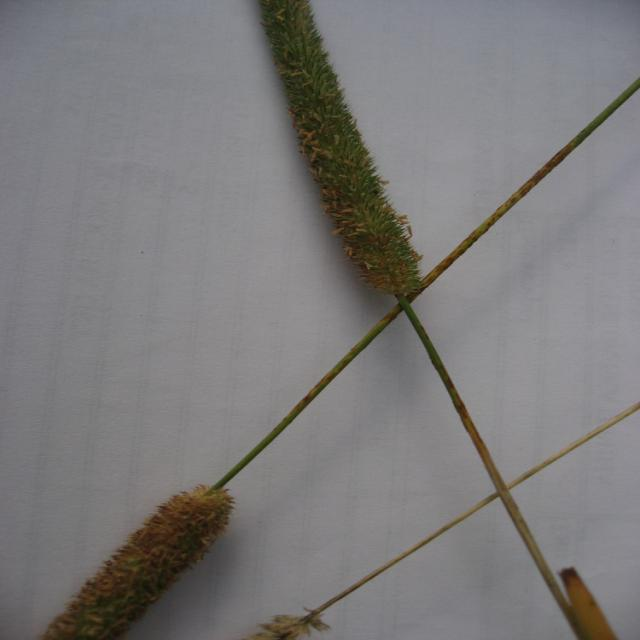wheat-stemrust: (258, 0, 546, 342), (40, 486, 236, 640)
